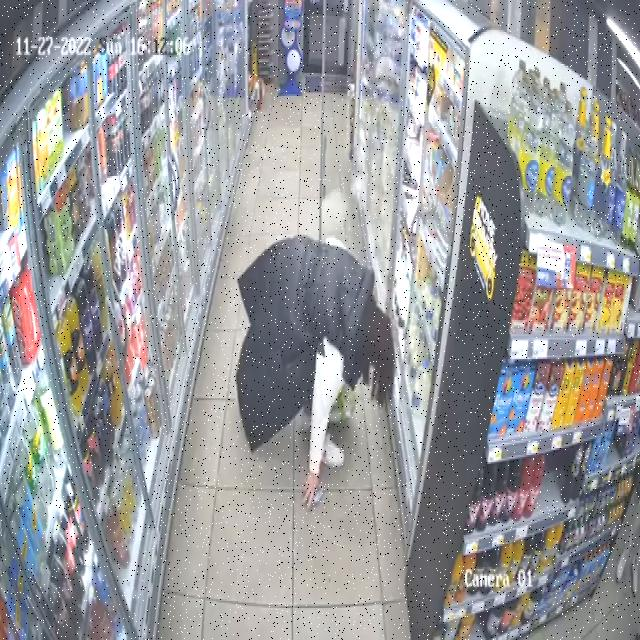article: (314, 484, 323, 505)
bags: (330, 386, 355, 421)
hands: (303, 471, 319, 508)
person: (235, 235, 394, 507)
